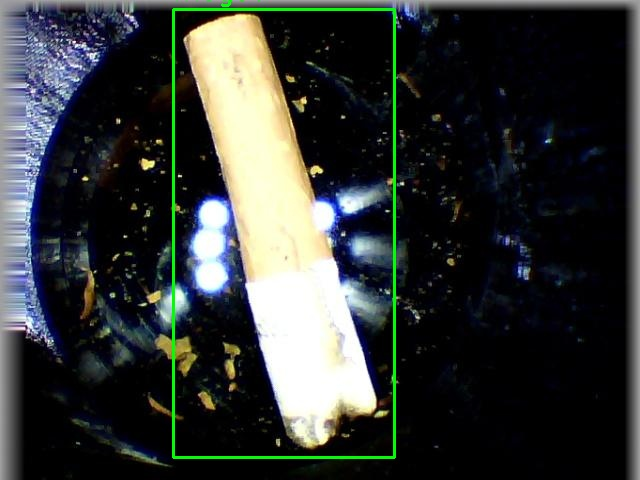megot: (173, 9, 394, 457)
